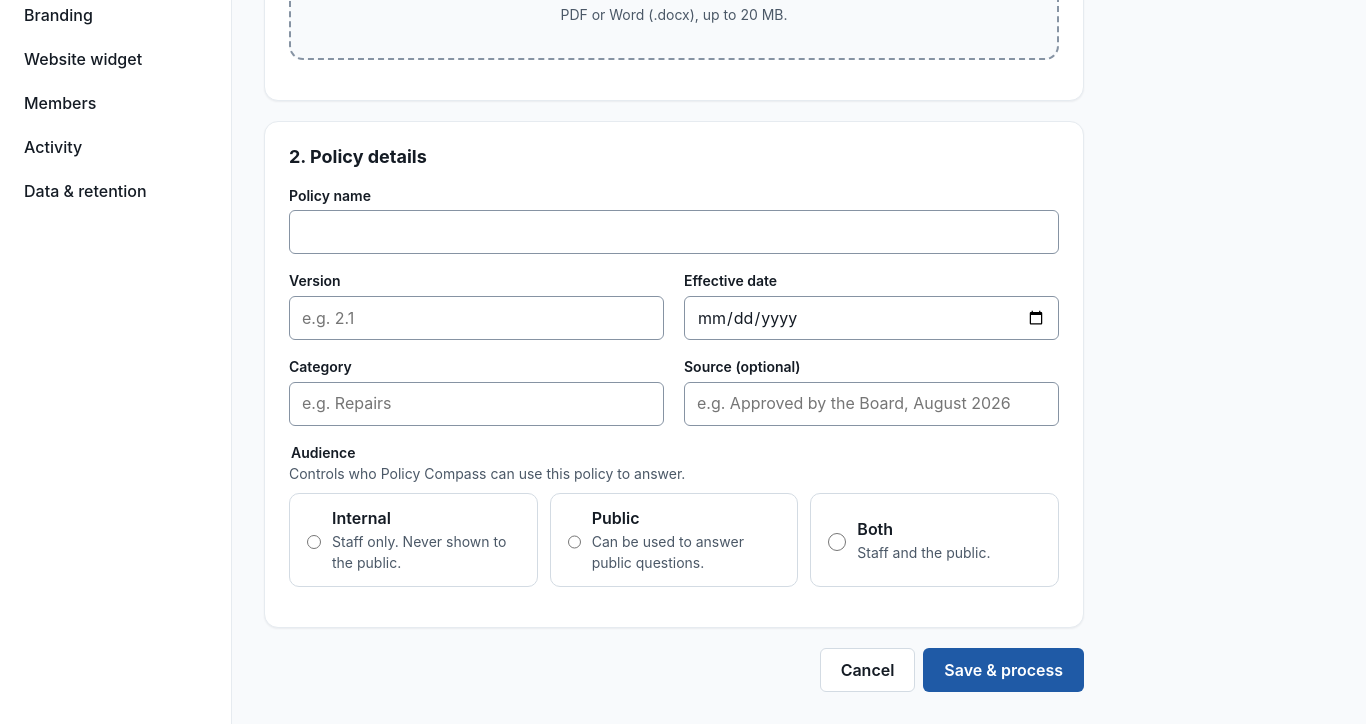
Test: Upload policy › validates required details before uploading
(page scrolled)
Click the button "Save & process". click: (1004, 670)
box: [923,648,1084,692]
(page scrolled)
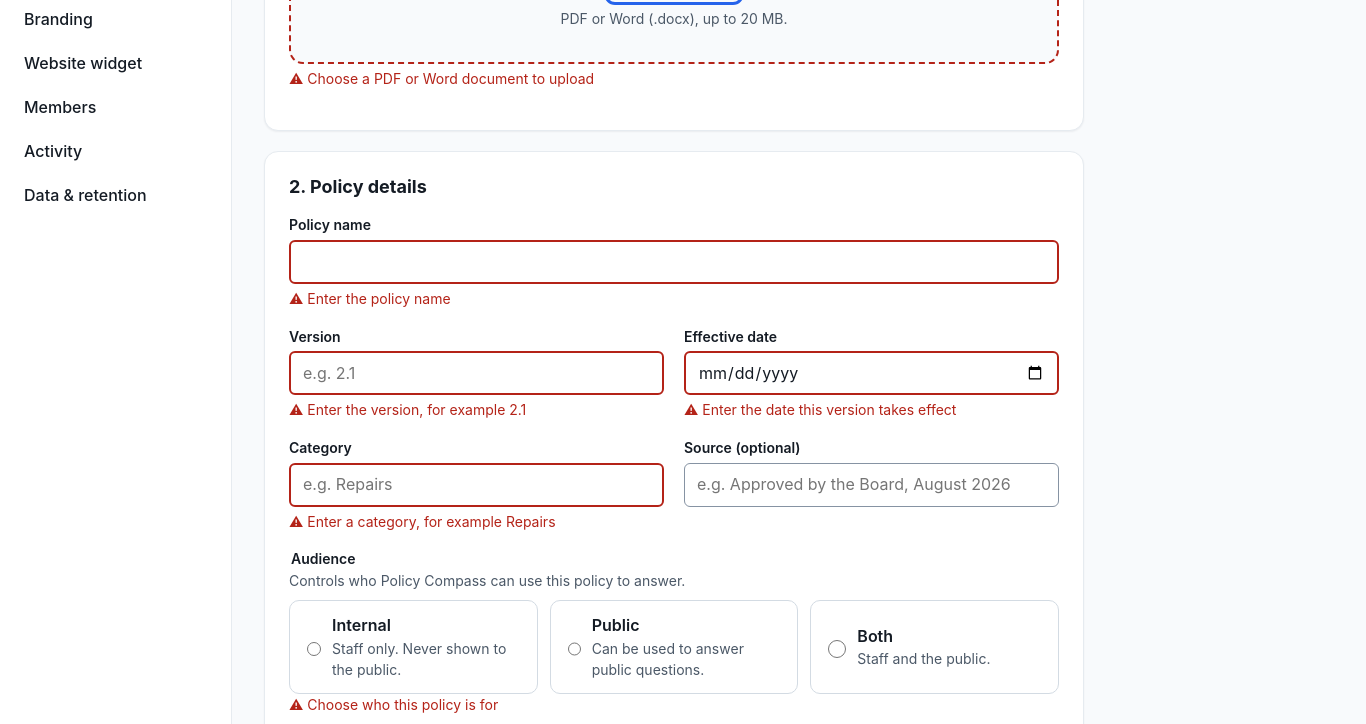
Now the text "⚠ Choose a PDF or Word document to upload" is shown, box [289,70,594,87]
Now the text "⚠ Enter the policy name" is shown, box [289,290,451,307]
Now the text "⚠ Enter the version, for example 2.1" is shown, box [289,401,526,418]
